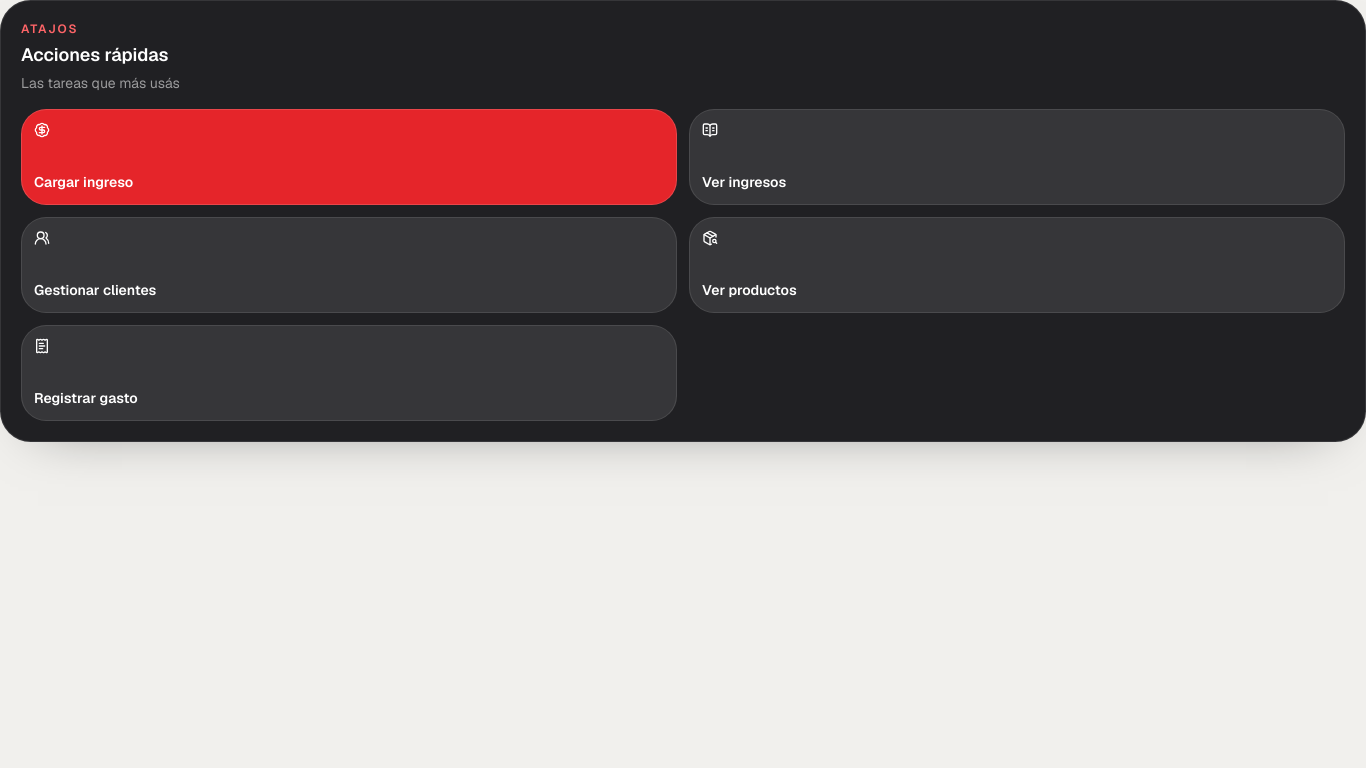
explains that future actions are not available yet
This screenshot has width=1366, height=768.
What coordinates should you click on to do the following:
click the button "Registrar gasto"
I would click on:
 (86, 398)
Its box is [21, 325, 677, 421].
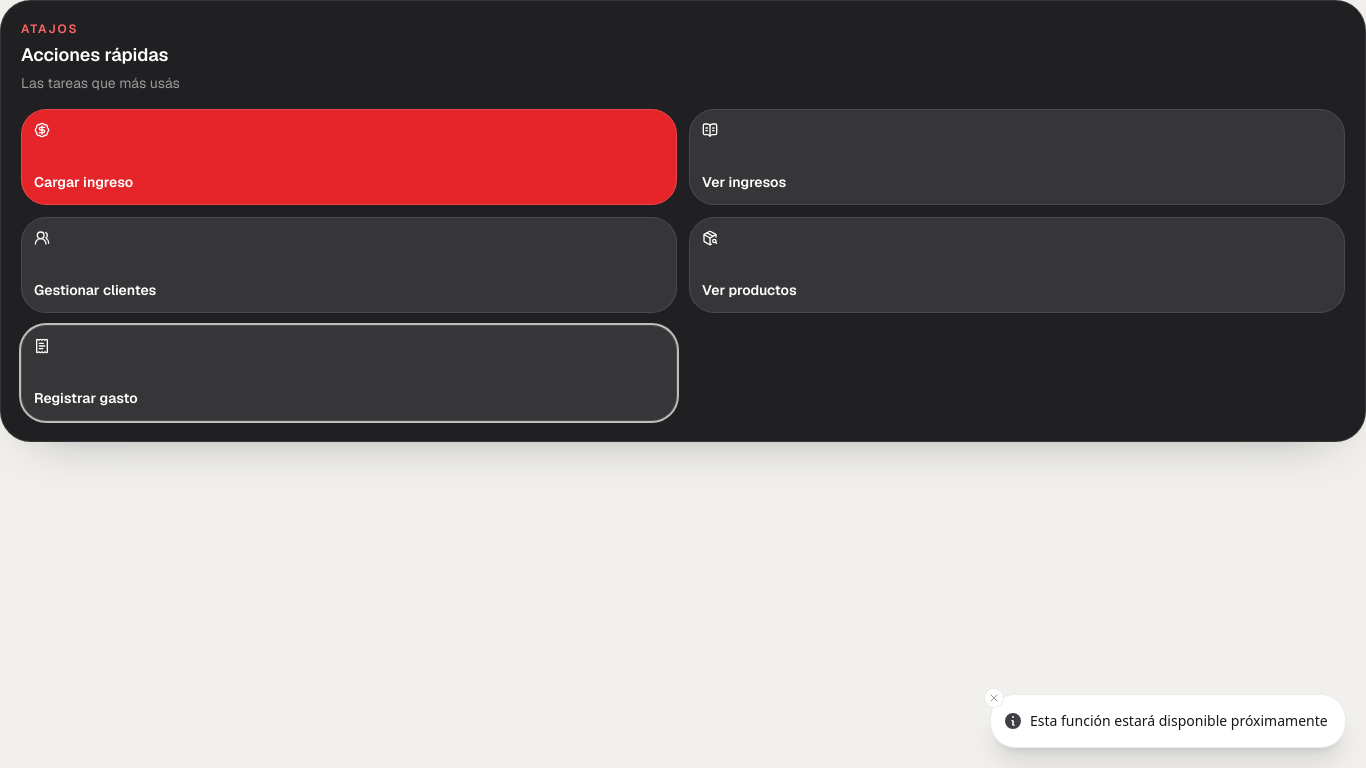
Expected: the text "Esta función estará disponible próximamente" is shown, [1030, 711, 1328, 731]
